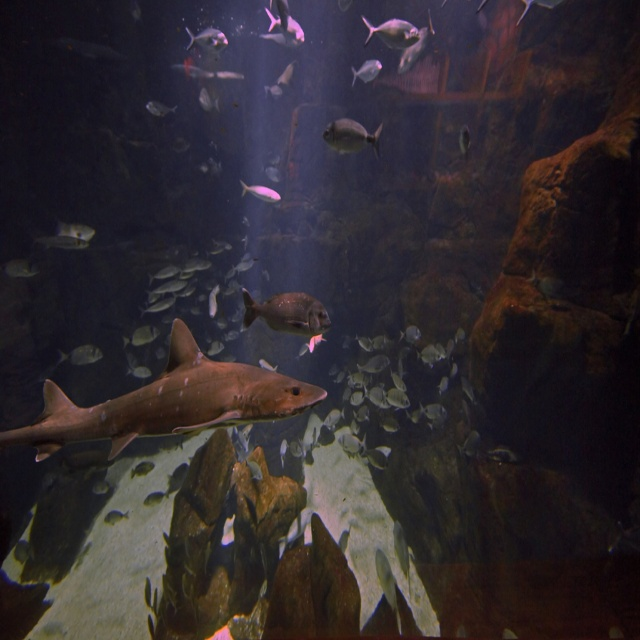Shark: (0, 315, 328, 464)
